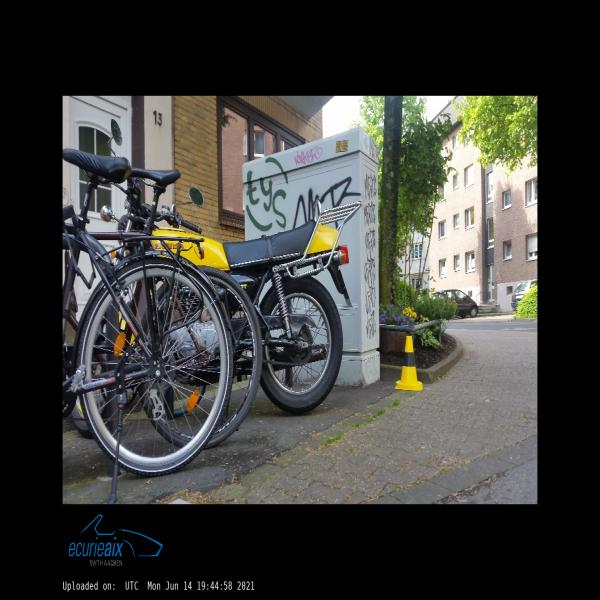yellow_cone: (395, 336, 422, 389)
